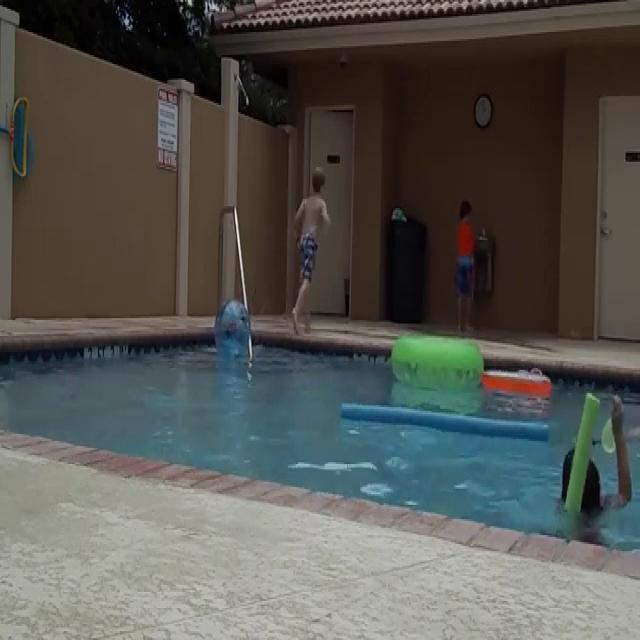child: (559, 383, 640, 537), (292, 162, 332, 334), (452, 197, 477, 330)
